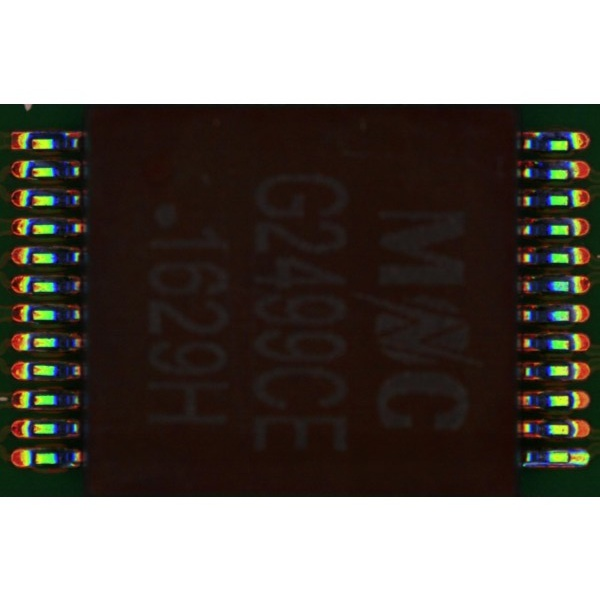Bad_podu: (562, 453, 581, 461)
Bad_qiaojiao: (523, 461, 569, 466)
